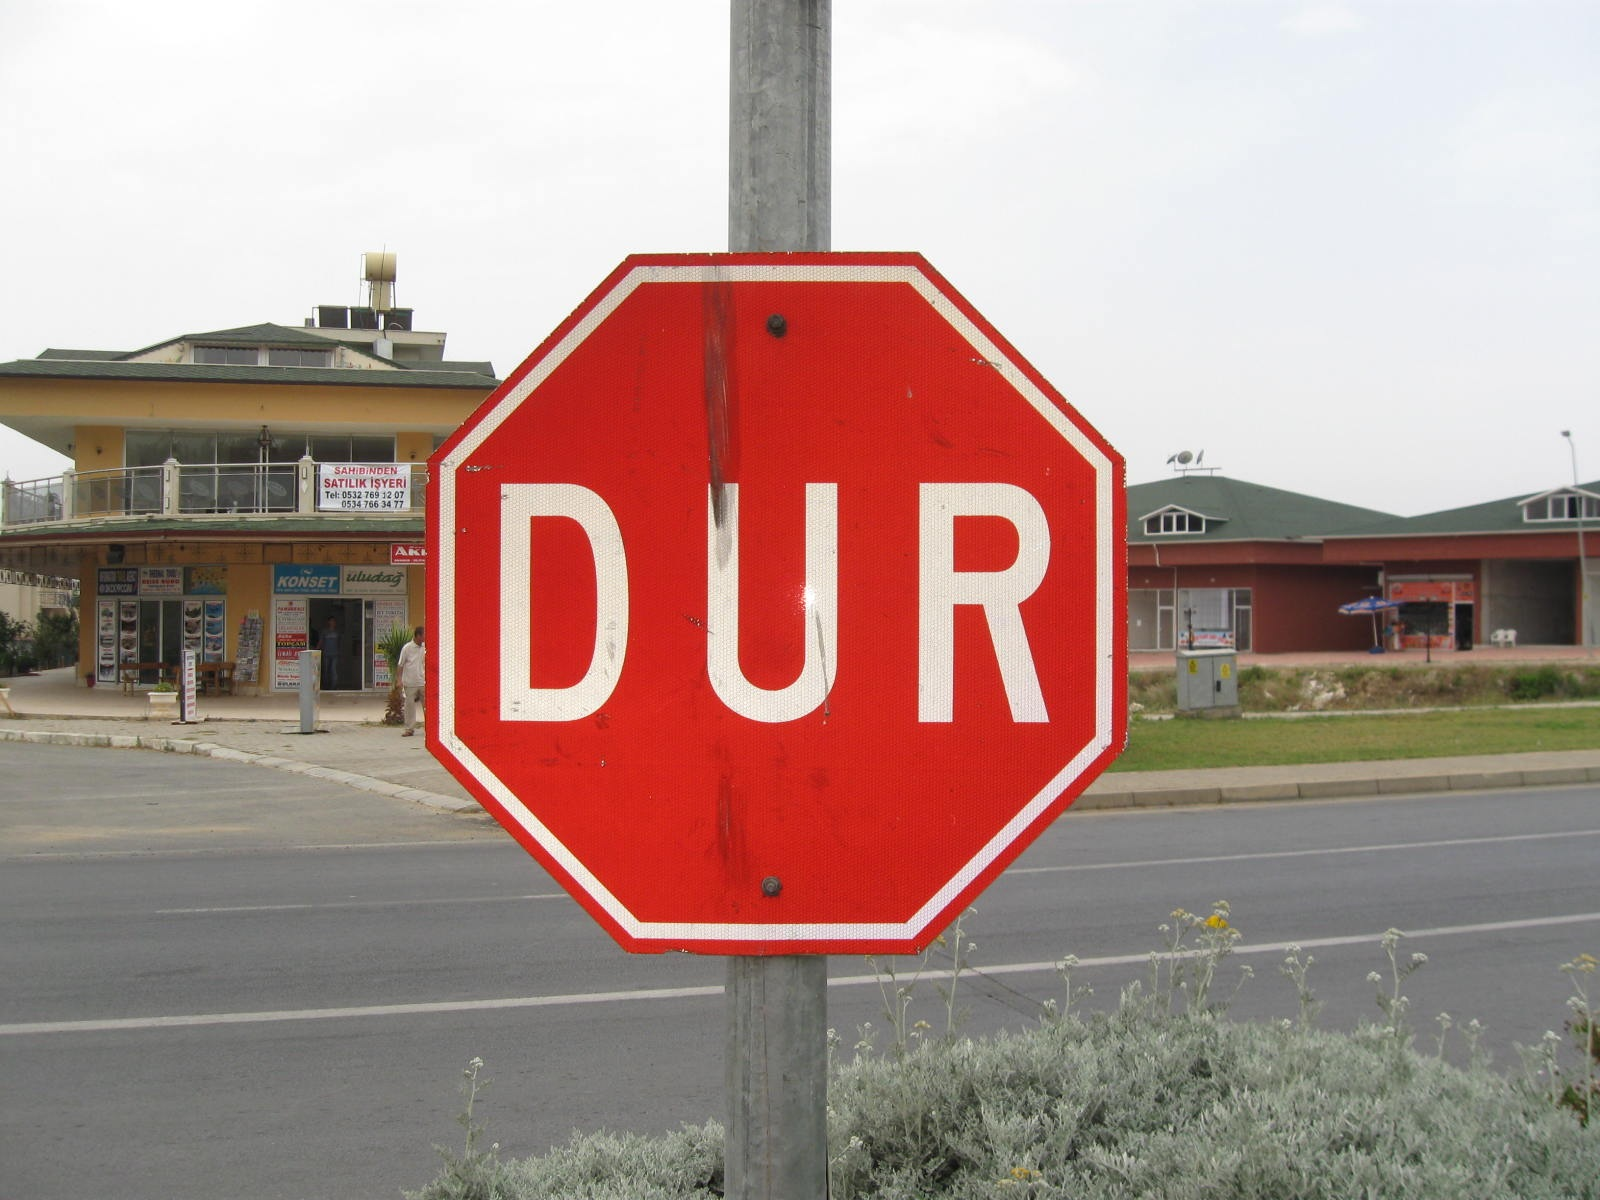dur: (402, 250, 1124, 968)
